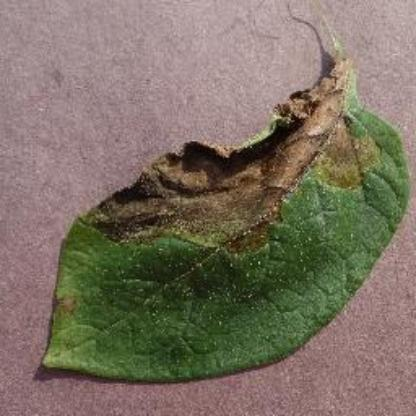Late-Blight: (12, 36, 412, 384)
